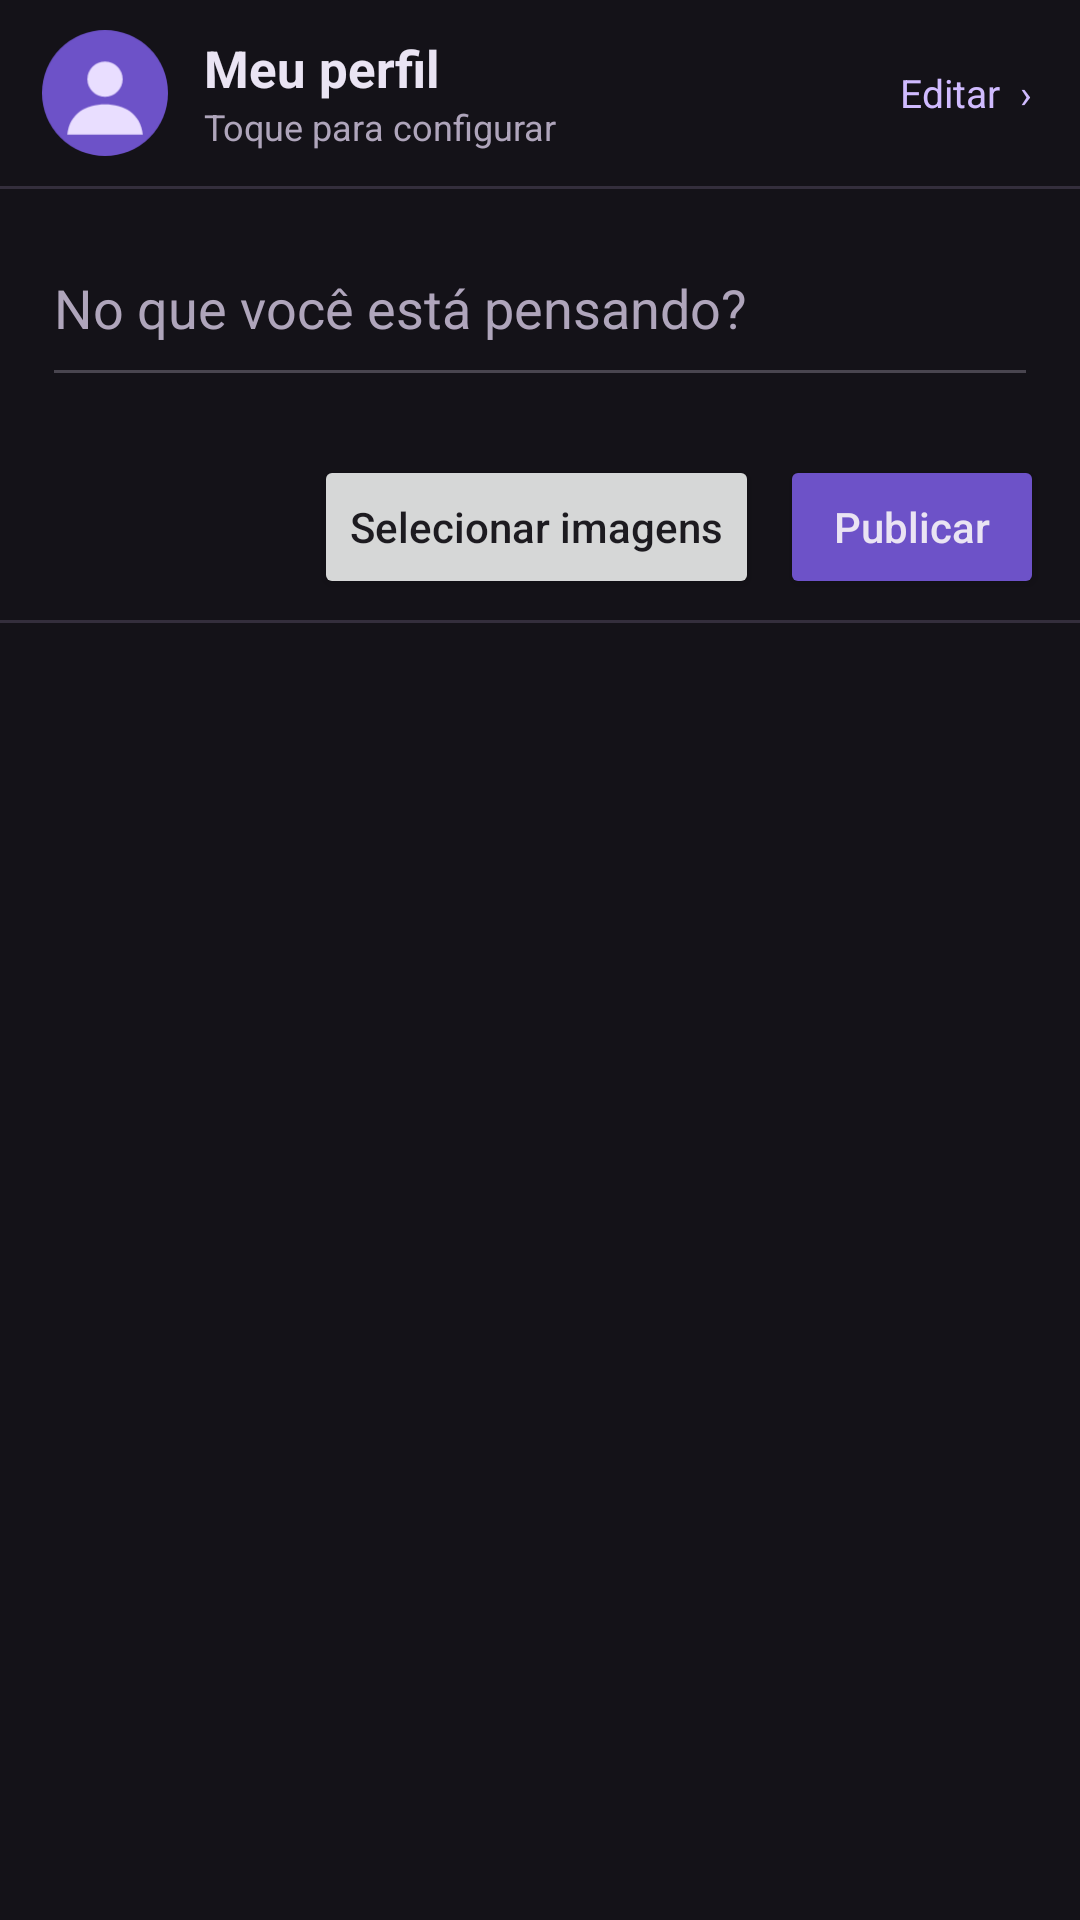

Point at icon controls on the screen. Image size 1080*1920, points as [x,y].
Foto do perfil: [105,93]
